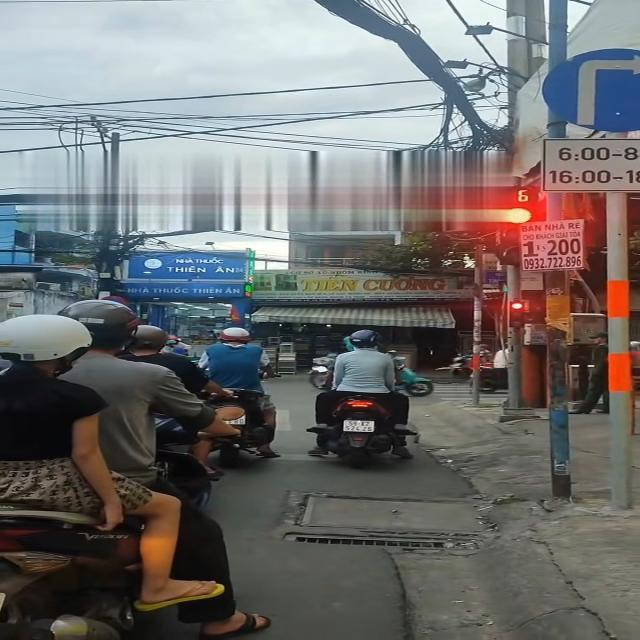301d-cac-xe-chi-duoc-re-phai-2: (539, 43, 640, 132)
